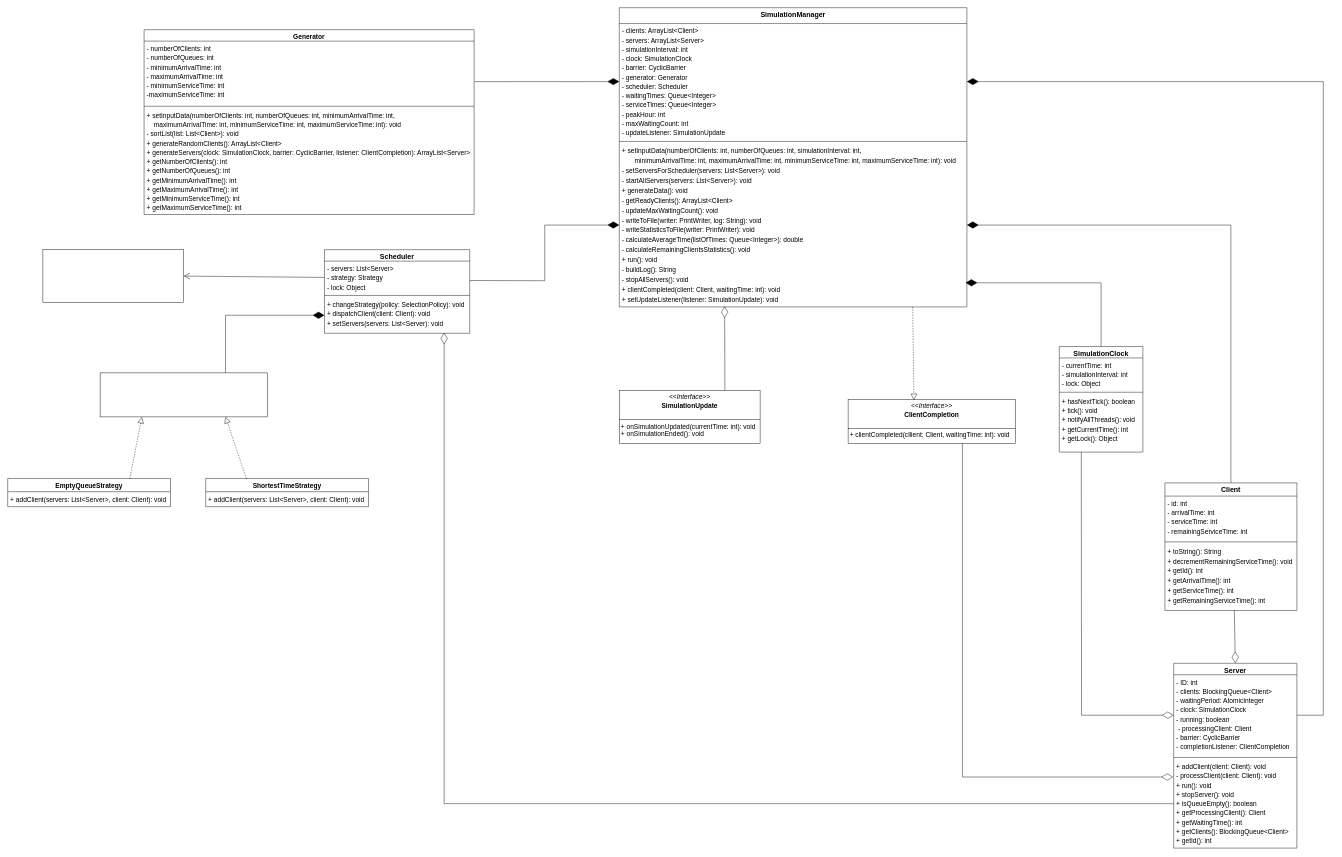
Image size: 1342x857. Some labels were removed from this diagram. The shapes that lost their labels are listed below. From the top down, each one's centre as x and y in pixels, then its label:
the point at 113,275: << enumeration >> SelectionPolicy EMPTY_QUEUE SHORTEST_TIME
the point at 183,394: <<Interface>> Strategy + addClient(servers: List<Servers>, client: Client): void
